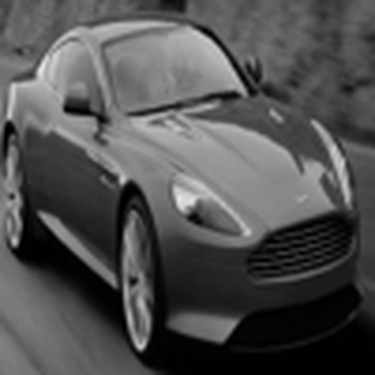car: (5, 6, 371, 370)
